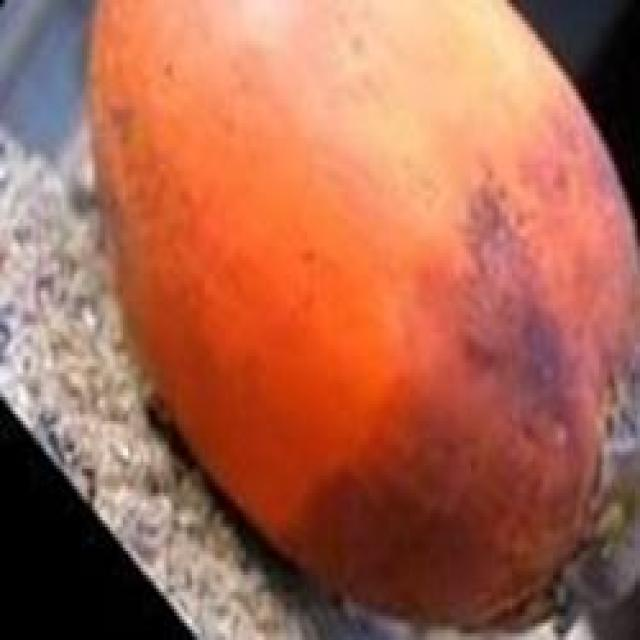good: (84, 0, 637, 637)
